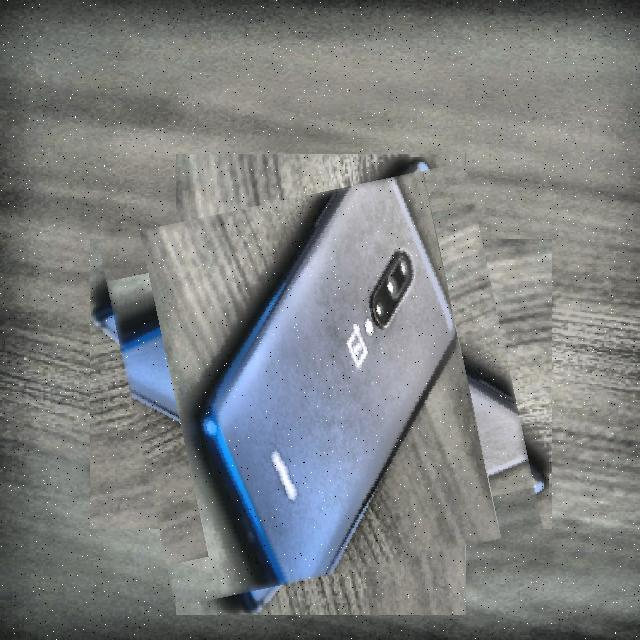Phone: (116, 180, 526, 590)
